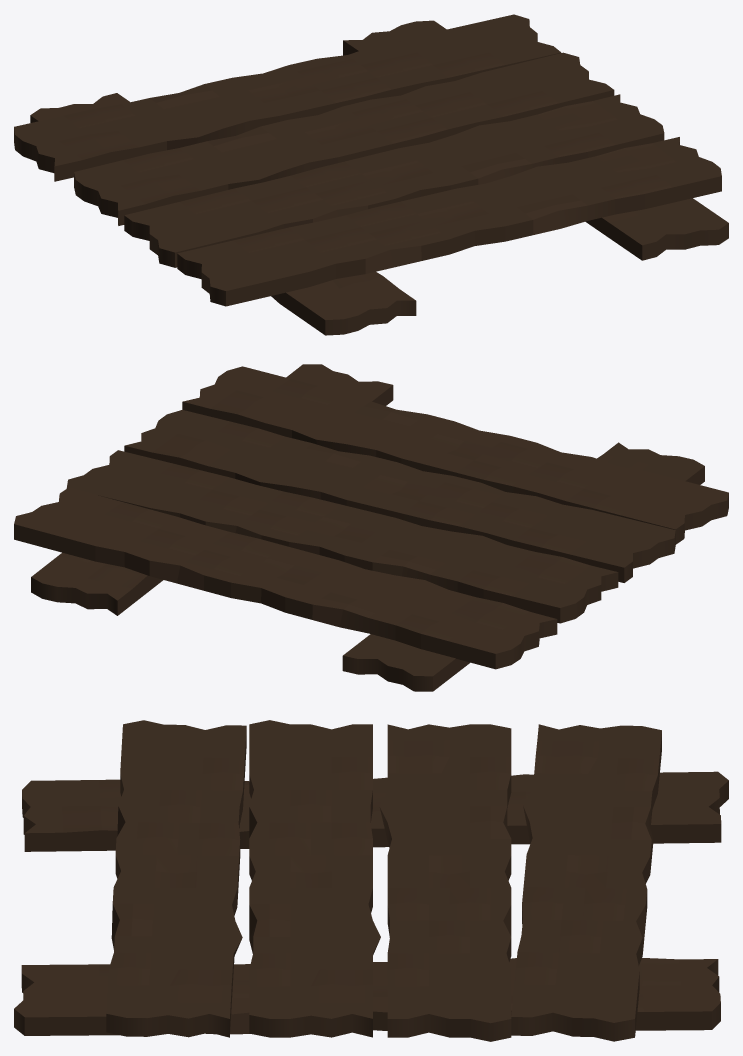
Rendered from MakeShiftPallet.fbx.
3 views of the same model, one above another, from view 1: azimuth 30°, elevation 25°; view 2: azimuth 150°, elevation 25°; view 3: azimuth 270°, elevation 25° (orthographic). The views are drawn at different scales.
Visible parts, largest first — view 1: Cube.001, Cube.003, Cube.002, Cube, Cube.004, Cube.005; view 2: Cube.003, Cube.002, Cube, Cube.001, Cube.004, Cube.005; view 3: Cube.003, Cube.002, Cube.001, Cube, Cube.004, Cube.005.
Boxes of the visible parts, <box> form: Cube.001: <box>177,137,721,306</box>; Cube.003: <box>14,14,561,181</box>; Cube.002: <box>74,52,614,225</box>; Cube: <box>124,94,664,267</box>; Cube.004: <box>343,20,728,260</box>; Cube.005: <box>30,93,416,335</box>; Cube.003: <box>14,487,557,669</box>; Cube.002: <box>66,450,618,623</box>; Cube: <box>124,410,675,582</box>; Cube.001: <box>182,366,728,544</box>; Cube.004: <box>31,364,393,615</box>; Cube.005: <box>342,442,704,691</box>; Cube.003: <box>511,724,661,1041</box>; Cube.002: <box>379,724,511,1041</box>; Cube.001: <box>106,720,246,1037</box>; Cube: <box>249,720,380,1037</box>; Cube.004: <box>14,958,720,1035</box>; Cube.005: <box>22,771,728,851</box>.
Bounding box in the file's own units: 244 × 16.07 × 242.
